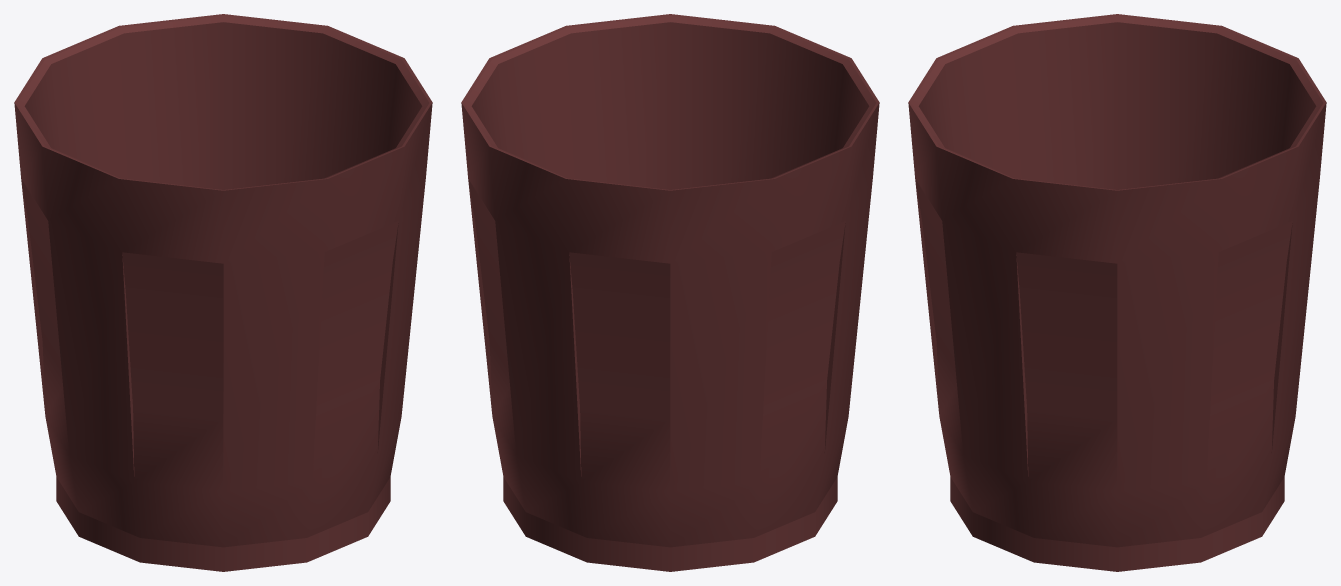
File: calleTacho1.fbx
The picture shows the model from 3 angles, left to right: view 1: azimuth 30°, elevation 25°; view 2: azimuth 150°, elevation 25°; view 3: azimuth 270°, elevation 25°; orthographic projection.
Parts seen in each view (by area): view 1: Tacho1; view 2: Tacho1; view 3: Tacho1.
Part boxes in pixels (x1=…): Tacho1: x1=14, y1=14, x2=432, y2=571; Tacho1: x1=461, y1=14, x2=879, y2=571; Tacho1: x1=908, y1=14, x2=1326, y2=571.
Size of the model in its own units: 0.00822 by 0.00865 by 0.00822.
